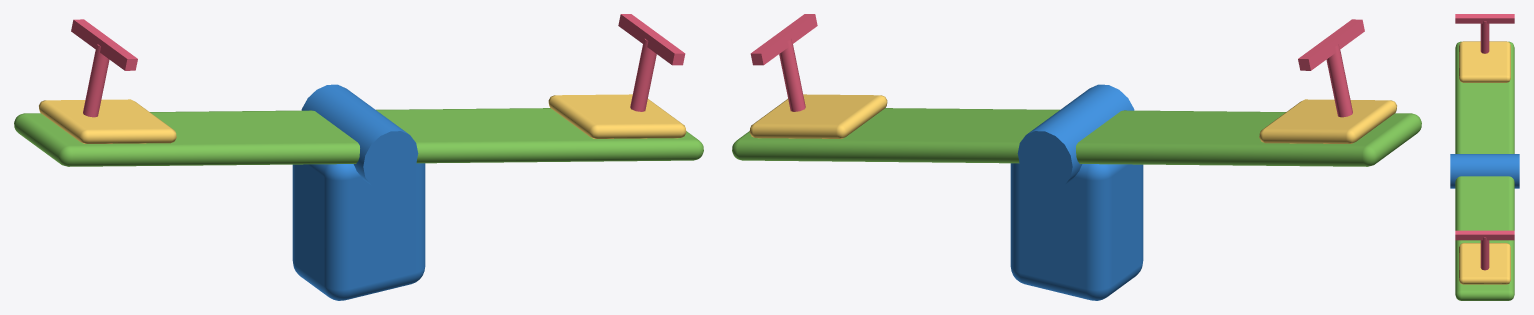
File: slide-seesaw.glb
3 views of the same model, side by side, from view 1: azimuth 30°, elevation 25°; view 2: azimuth 150°, elevation 25°; view 3: azimuth 270°, elevation 25° (orthographic). The views are drawn at different scales.
Bounding box in the file's own units: 2.34 × 1.06 × 0.4.
